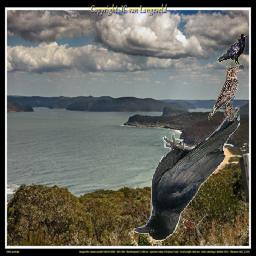Crow: (132, 107, 241, 241), (217, 33, 247, 69)
Sparrow: (207, 65, 239, 122)
